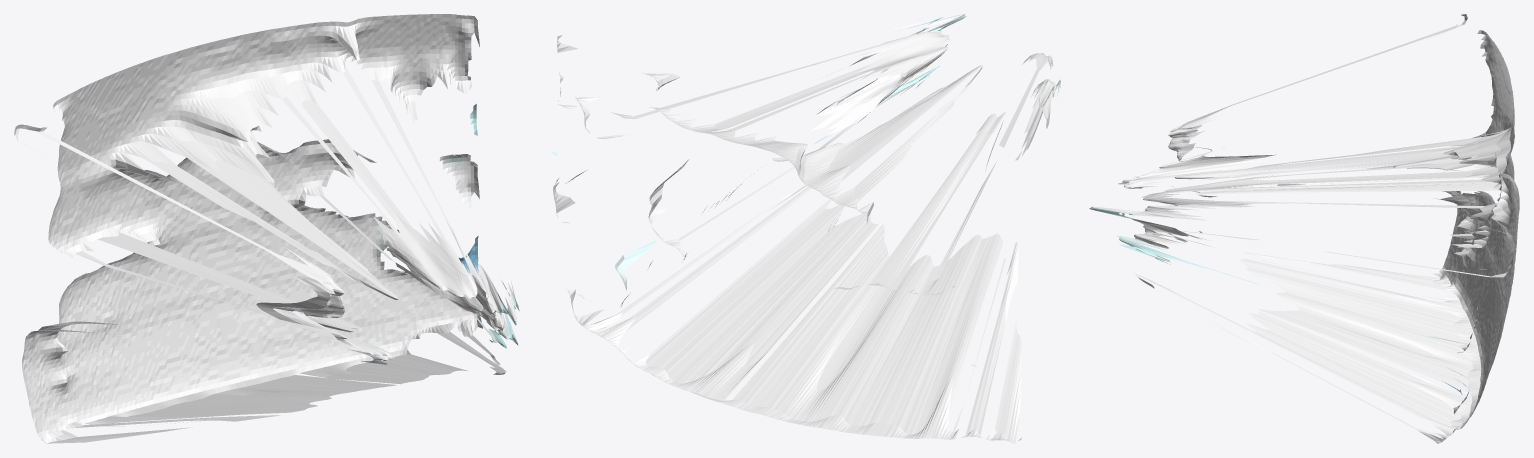
3 views of the same model, side by side, from view 1: azimuth 30°, elevation 25°; view 2: azimuth 150°, elevation 25°; view 3: azimuth 270°, elevation 25° (orthographic). The views are drawn at different scales.
Parts seen in each view (by area): view 1: defaultobject; view 2: defaultobject; view 3: defaultobject.
Boxes of the visible parts, left/top/right/bottom form: defaultobject: left=14, top=14, right=519, bottom=443; defaultobject: left=552, top=14, right=1060, bottom=443; defaultobject: left=1089, top=14, right=1519, bottom=443.
Bounding box in the file's own units: 40.72 × 27.53 × 39.14.
1 material, 1 textured.
